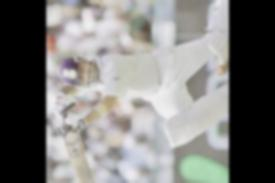batsman: (50, 0, 229, 183)
